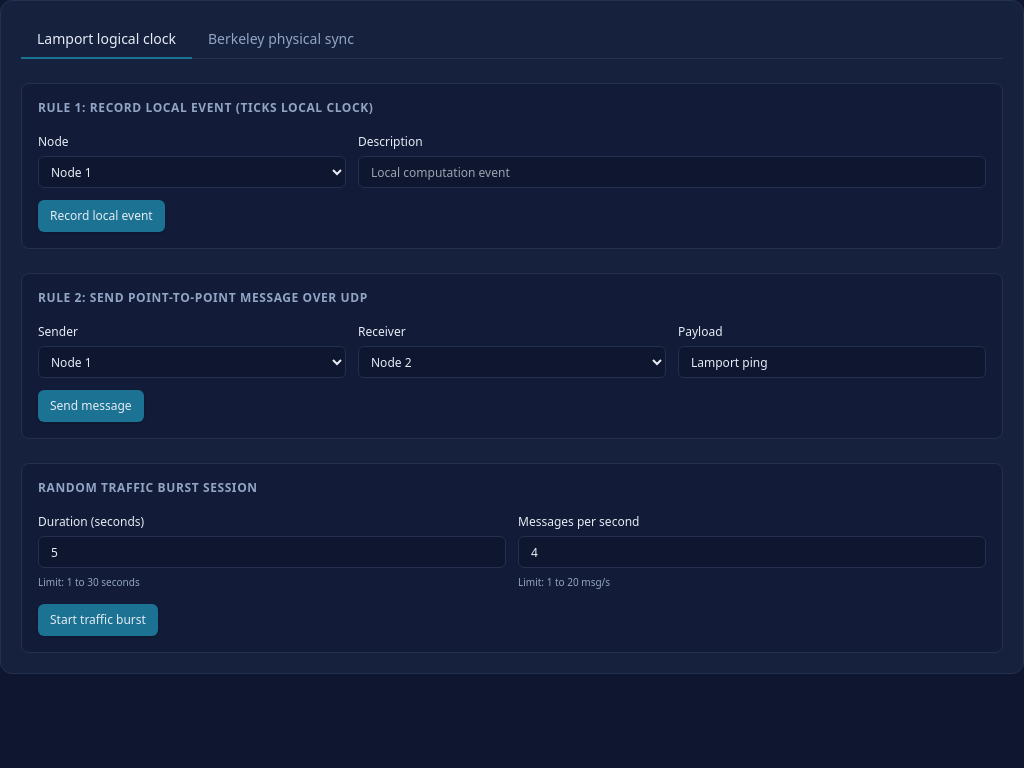
it: ClockSyncControls › handles 400 validation error and moves focus to alert
This screenshot has width=1024, height=768.
Click the button "Start traffic burst" at x=98, y=620, box top-left (38, 604), bottom-right (158, 636)
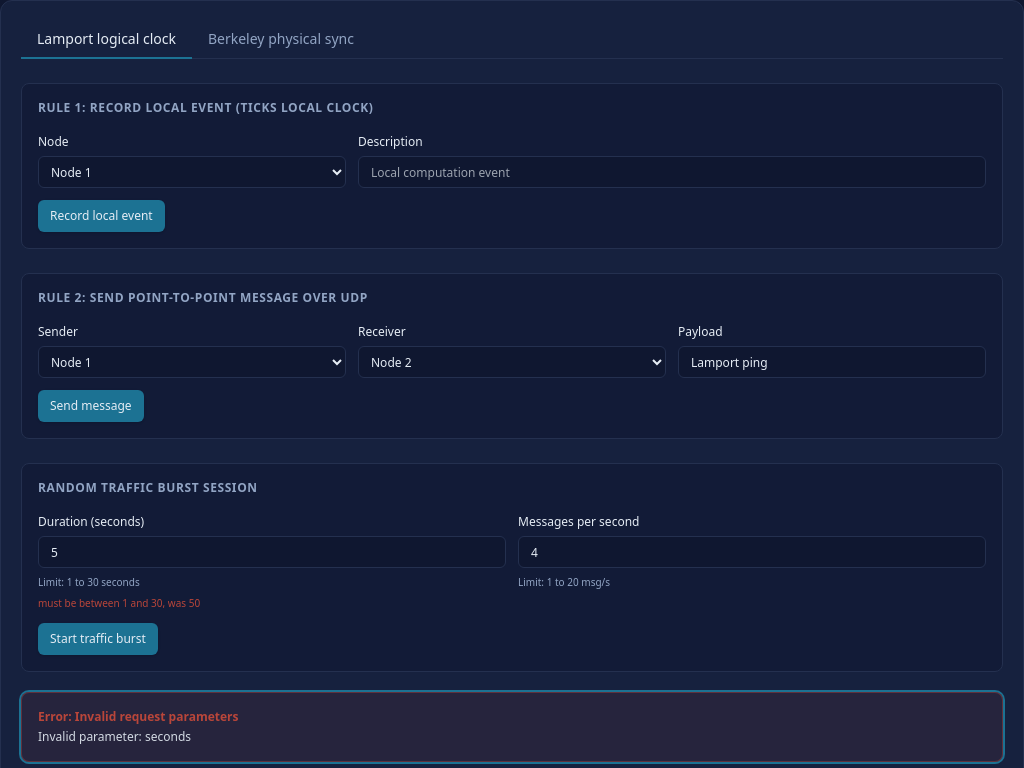
Check: the message "Error: Invalid request parameters Invalid parameter: seconds" is shown, box top-left (21, 692), bottom-right (1003, 762)
Check: the message shows "Invalid parameter: seconds", box top-left (38, 728), bottom-right (191, 745)
Check: the text "must be between 1 and 30, was 50" is shown, box top-left (38, 596), bottom-right (200, 610)
